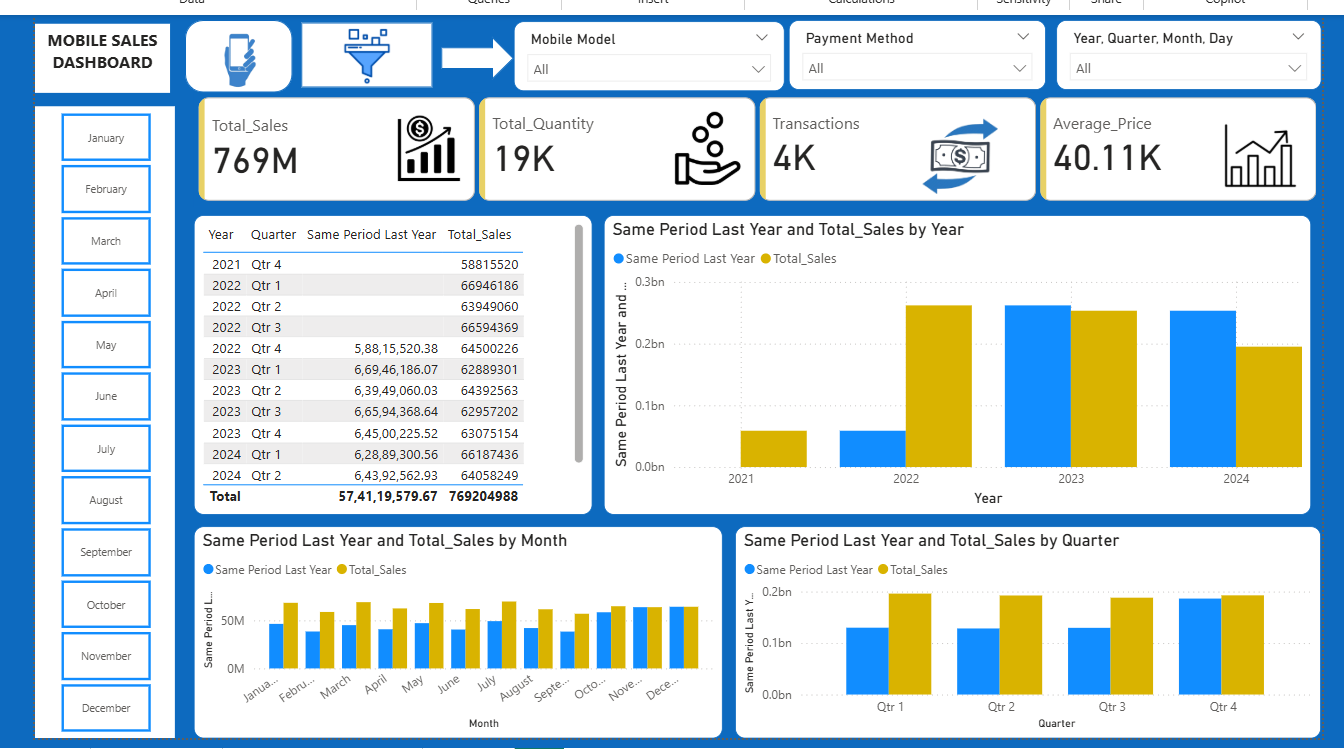

The page's visual inventory and layout, read from the dashboard file:
{"tool":"powerbi","page":{"name":"Same Period Last Year","canvas":[1280,720],"ordinal":2},"visuals":[{"type":"shape","box":[149.3,5,107,72.1],"z":0},{"type":"image","box":[139.3,0,128.1,99.5],"z":1000},{"type":"cardVisual","fields":{"Data":["Sales_Data.Total_Sales","Sales_Data.Total_Quantity","Sales_Data.Transactions","Sales_Data.Average_Price"]},"box":[158,77.1,1122.1,113.2],"z":2000},{"type":"slicer","fields":{"Values":["Sales_Data.Mobile Model"]},"box":[476.4,6.2,269.9,69.7],"z":3000},{"type":"slicer","fields":{"Values":["Sales_Data.Payment Method"]},"box":[750.1,5,256.3,69.7],"z":4000},{"type":"slicer","fields":{"Values":["Custom_Calendar.Date.Variation.Date Hierarchy.Year","Custom_Calendar.Date.Variation.Date Hierarchy.Quarter","Custom_Calendar.Date.Variation.Date Hierarchy.Month","Custom_Calendar.Date.Variation.Date Hierarchy.Day"]},"box":[1016.3,5,263.7,69.7],"z":5000},{"type":"shape","box":[265,7.5,130.6,64.7],"z":6000},{"type":"image","box":[272.4,8.7,115.7,64.7],"z":7000},{"type":"shape","box":[404.3,21.1,72.1,43.5],"z":8000},{"type":"textbox","box":[0,8.7,134.3,68.4],"z":9000},{"type":"slicer","fields":{"Values":["Custom_Calendar.Date.Variation.Date Hierarchy.Month"]},"box":[0,90.8,139.3,629.4],"z":11000},{"type":"tableEx","fields":{"Values":["Custom_Calendar.Date.Variation.Date Hierarchy.Year","Custom_Calendar.Date.Variation.Date Hierarchy.Quarter","Sales_Data.Same Period Last Year","Sales_Data.Total_Sales"]},"box":[158,199,396.8,298.6],"z":11001},{"type":"clusteredColumnChart","fields":{"Category":["Custom_Calendar.Date.Variation.Date Hierarchy.Year","Custom_Calendar.Date.Variation.Date Hierarchy.Quarter"],"Y":["Sales_Data.Same Period Last Year","Sales_Data.Total_Sales"]},"box":[566,199,704.1,298.6],"z":11002},{"type":"clusteredColumnChart","fields":{"Category":["Custom_Calendar.Date.Variation.Date Hierarchy.Year","Custom_Calendar.Date.Variation.Date Hierarchy.Quarter"],"Y":["Sales_Data.Same Period Last Year","Sales_Data.Total_Sales"]},"box":[696.6,508.8,583.4,211.5],"z":11003},{"type":"clusteredColumnChart","fields":{"Category":["Custom_Calendar.Date.Variation.Date Hierarchy.Year","Custom_Calendar.Date.Variation.Date Hierarchy.Quarter","Custom_Calendar.Date.Variation.Date Hierarchy.Month"],"Y":["Sales_Data.Same Period Last Year","Sales_Data.Total_Sales"]},"box":[158,508.8,526.2,211.5],"z":11004}]}

Visuals, with their boxes on the page's 1280x720 design canvas (x1, y1, x2, y2). These are canvas units, not pixel positions in the 1344x749 screenshot, which may show the page scaled, cropped or inside an application window:
shape: box=[149, 5, 256, 77]
image: box=[139, 0, 267, 100]
cardVisual - Sales_Data.Total_Sales x Sales_Data.Total_Quantity: box=[158, 77, 1280, 190]
slicer - Sales_Data.Mobile Model: box=[476, 6, 746, 76]
slicer - Sales_Data.Payment Method: box=[750, 5, 1006, 75]
slicer - Custom_Calendar.Date.Variation.Date Hierarchy.Year x Custom_Calendar.Date.Variation.Date Hierarchy.Quarter: box=[1016, 5, 1280, 75]
shape: box=[265, 8, 396, 72]
image: box=[272, 9, 388, 73]
shape: box=[404, 21, 476, 65]
textbox: box=[0, 9, 134, 77]
slicer - Custom_Calendar.Date.Variation.Date Hierarchy.Month: box=[0, 91, 139, 720]
tableEx - Custom_Calendar.Date.Variation.Date Hierarchy.Year x Custom_Calendar.Date.Variation.Date Hierarchy.Quarter: box=[158, 199, 555, 498]
clusteredColumnChart - Custom_Calendar.Date.Variation.Date Hierarchy.Year x Custom_Calendar.Date.Variation.Date Hierarchy.Quarter: box=[566, 199, 1270, 498]
clusteredColumnChart - Custom_Calendar.Date.Variation.Date Hierarchy.Year x Custom_Calendar.Date.Variation.Date Hierarchy.Quarter: box=[697, 509, 1280, 720]
clusteredColumnChart - Custom_Calendar.Date.Variation.Date Hierarchy.Year x Custom_Calendar.Date.Variation.Date Hierarchy.Quarter: box=[158, 509, 684, 720]
